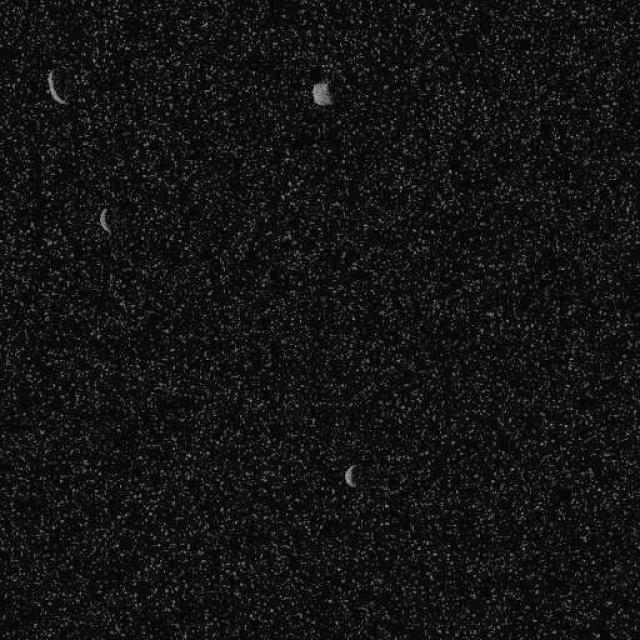D2: (45, 67, 67, 105), (310, 79, 332, 106), (96, 206, 112, 234), (343, 462, 358, 488)
